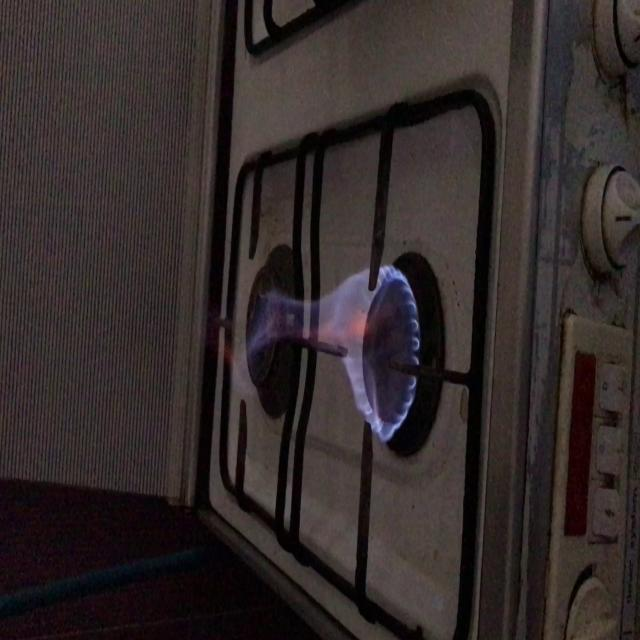Fire: (266, 276, 416, 424)
